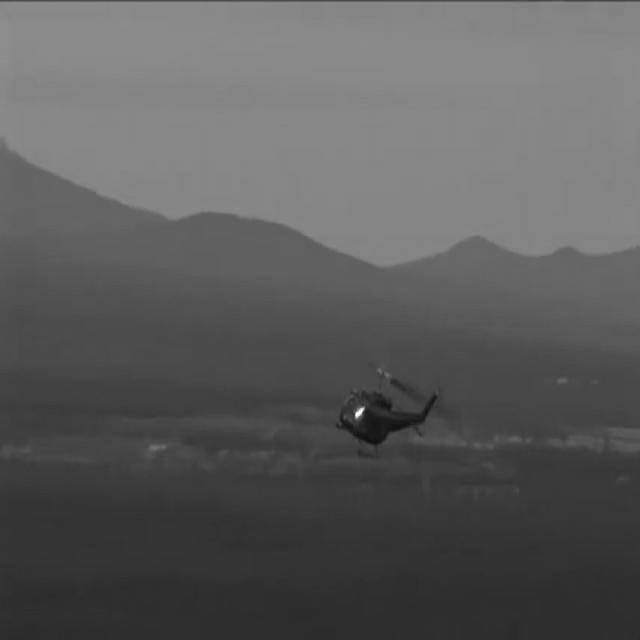helikopter: (329, 354, 456, 469)
